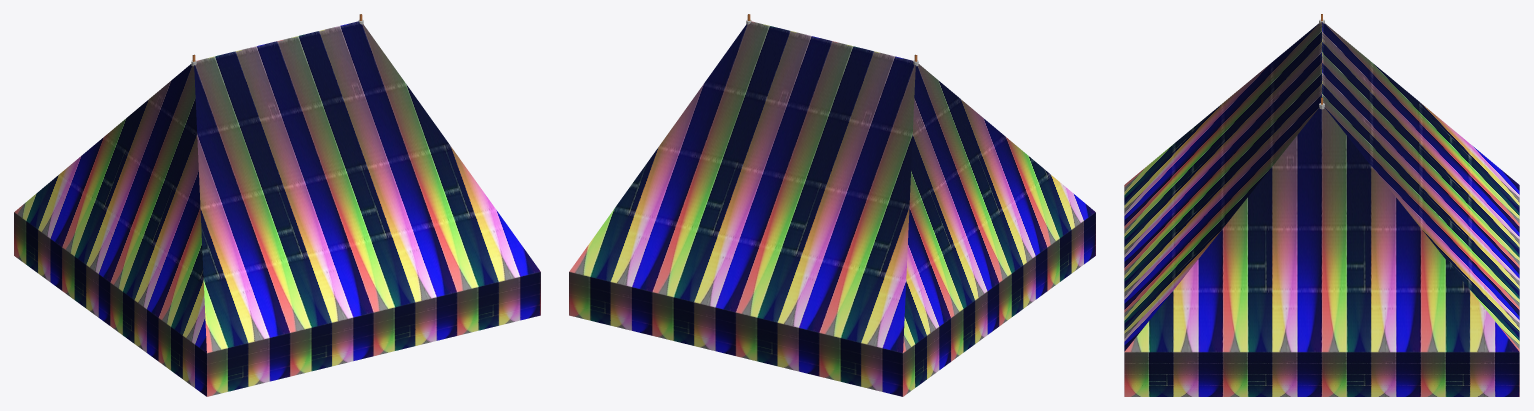
Rendered from ENVI_Circus.obj.
3 renders of one model, left to right at view 1: azimuth 30°, elevation 25°; view 2: azimuth 150°, elevation 25°; view 3: azimuth 270°, elevation 25°, orthographic. The views are drawn at different scales.
Parts seen in each view (by area): view 1: CircusTentRing; view 2: CircusTentRing; view 3: CircusTentRing.
Boxes of the visible parts, <box> form: CircusTentRing: <box>14,21,540,396</box>; CircusTentRing: <box>569,21,1095,396</box>; CircusTentRing: <box>1124,22,1519,396</box>.
Size of what is drawn, in the model's own units: 4000 by 2870 by 4000.
Materials: 19 (12 with a texture image).
